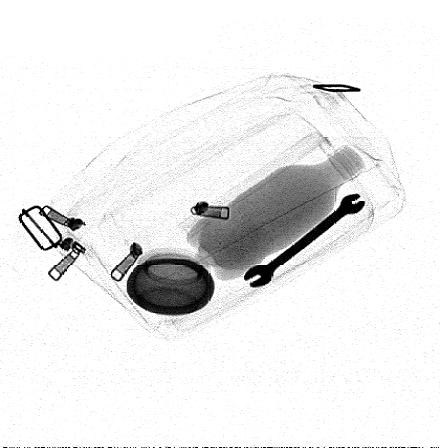Wrench: (242, 192, 367, 289)
